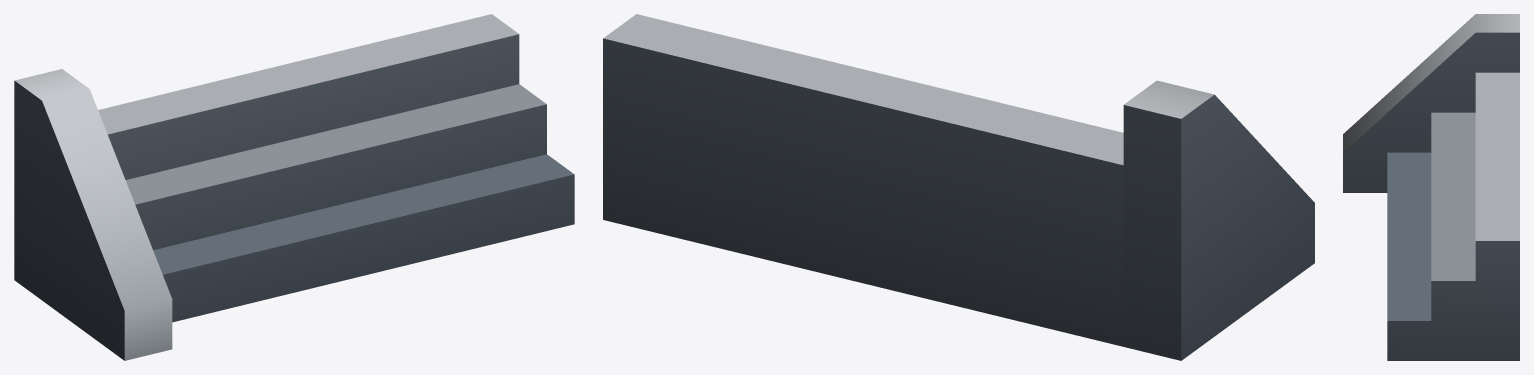
Rendered from stairs-small-edge.glb.
The picture shows the model from 3 angles, left to right: view 1: azimuth 30°, elevation 25°; view 2: azimuth 150°, elevation 25°; view 3: azimuth 270°, elevation 25°; orthographic projection. The views are drawn at different scales.
Parts seen in each view (by area): view 1: stairs-small-edge; view 2: stairs-small-edge; view 3: stairs-small-edge.
Boxes of the visible parts, left/top/right/bottom form: stairs-small-edge: left=14, top=14, right=574, bottom=360; stairs-small-edge: left=603, top=14, right=1314, bottom=360; stairs-small-edge: left=1343, top=14, right=1519, bottom=360.
Bounding box in the file's own units: 1 × 0.3999 × 0.3999.
